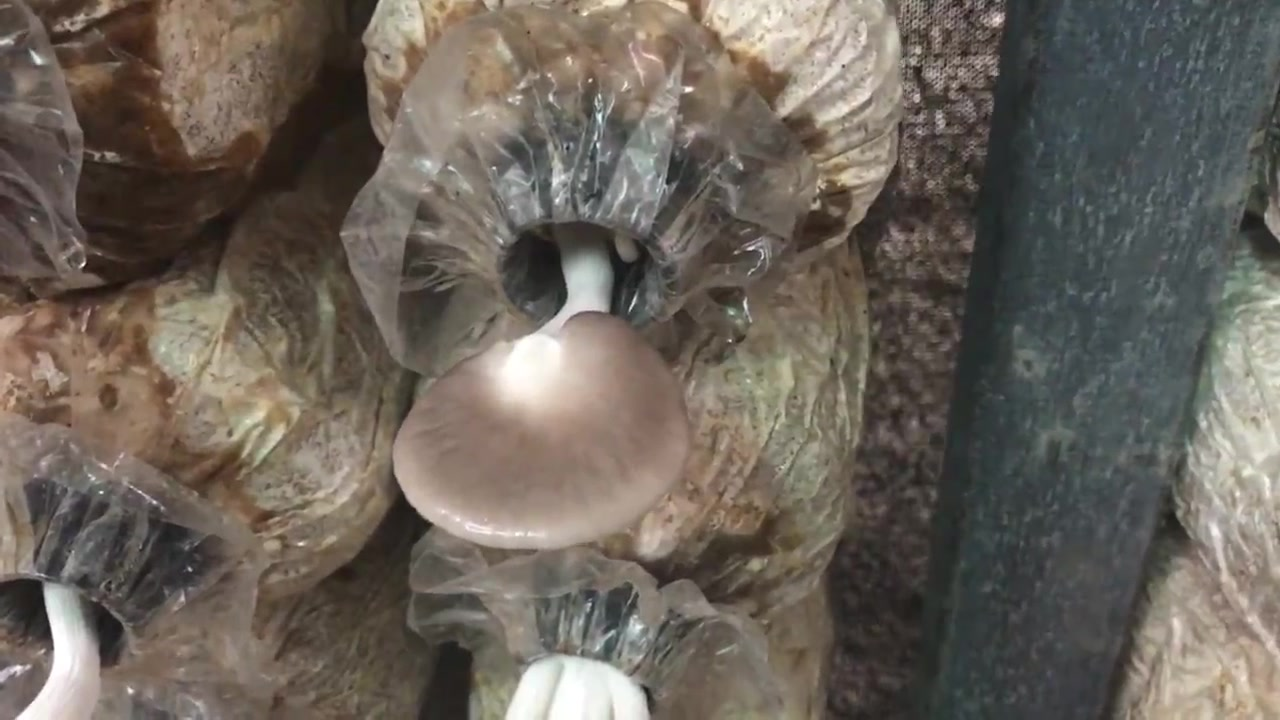nam: (385, 143, 696, 560)
